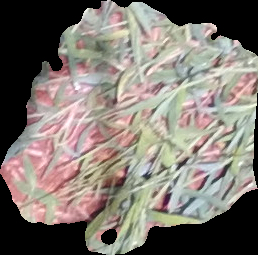grass: (1, 1, 256, 253)
